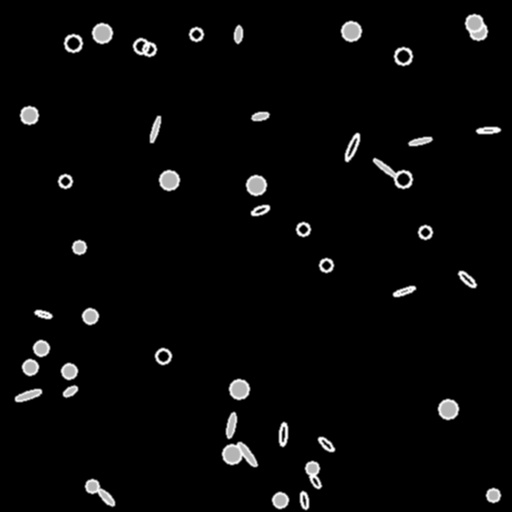pseudomonas: (372, 157, 398, 179), (236, 441, 258, 467), (343, 132, 361, 162), (15, 388, 41, 402), (457, 270, 477, 288), (97, 488, 115, 506), (317, 435, 335, 453), (149, 116, 161, 142), (392, 285, 416, 297), (225, 413, 237, 437), (250, 203, 270, 217), (408, 136, 432, 146), (308, 473, 322, 489), (62, 384, 78, 398), (279, 422, 287, 446), (34, 309, 52, 319), (299, 492, 309, 508), (252, 111, 268, 121), (476, 127, 500, 133), (234, 26, 242, 42)
synechocystis: (93, 24, 111, 42), (439, 400, 457, 418), (247, 176, 265, 194), (160, 171, 178, 189), (342, 22, 360, 40), (223, 445, 241, 463), (230, 380, 248, 398), (65, 35, 81, 51), (395, 171, 411, 187), (470, 23, 486, 39), (466, 15, 482, 31), (395, 48, 411, 64), (21, 107, 37, 123), (83, 309, 97, 323), (156, 349, 170, 363), (62, 364, 76, 378), (273, 493, 287, 507), (134, 39, 148, 53), (34, 341, 48, 355), (23, 360, 37, 374), (59, 175, 71, 187), (297, 223, 309, 235), (73, 241, 85, 253), (86, 480, 98, 492), (419, 226, 431, 238), (306, 462, 318, 474), (143, 43, 155, 55), (320, 259, 332, 271), (190, 28, 202, 40), (487, 489, 499, 501)
